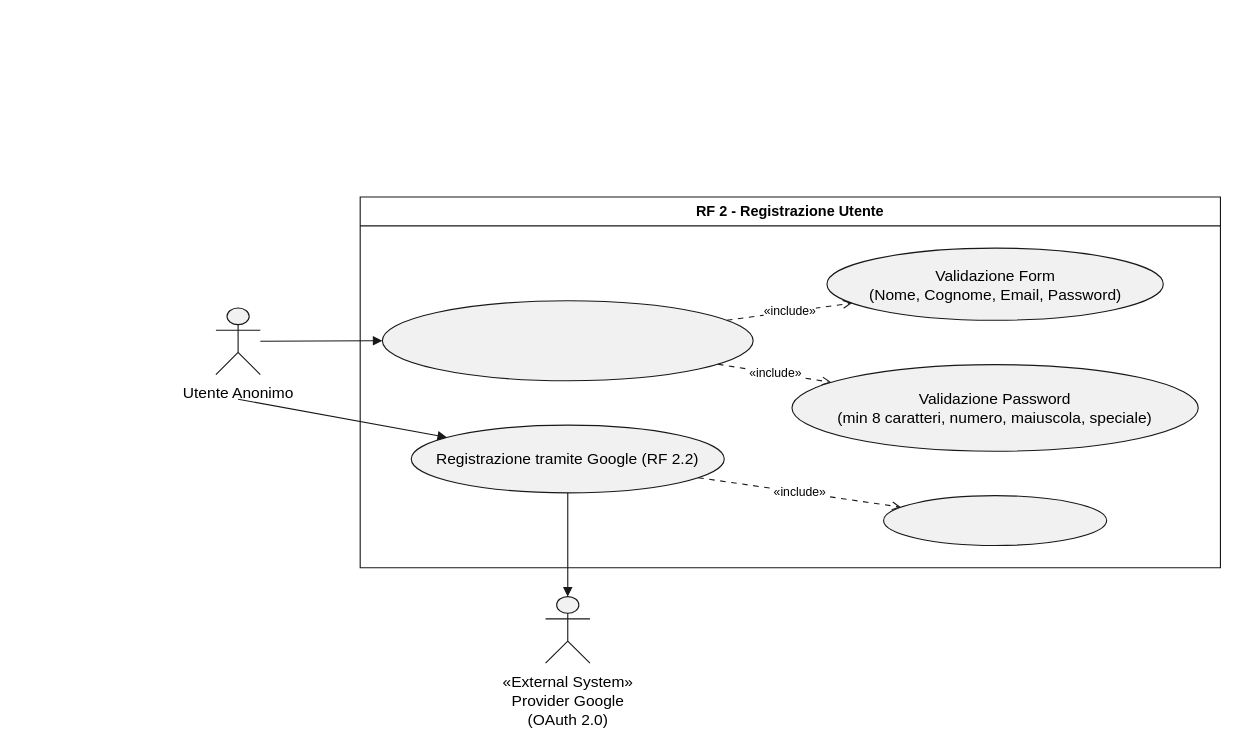
Some shapes in this 1240 by 747 pixel diagram are drawn without their labels. Here are the shapes that lost their labels. From the top down, the centre of each, then its label:
point 567,340: Registrazione con Credenziali Locali (RF 2.1)
point 994,520: Importazione Dati di Base
